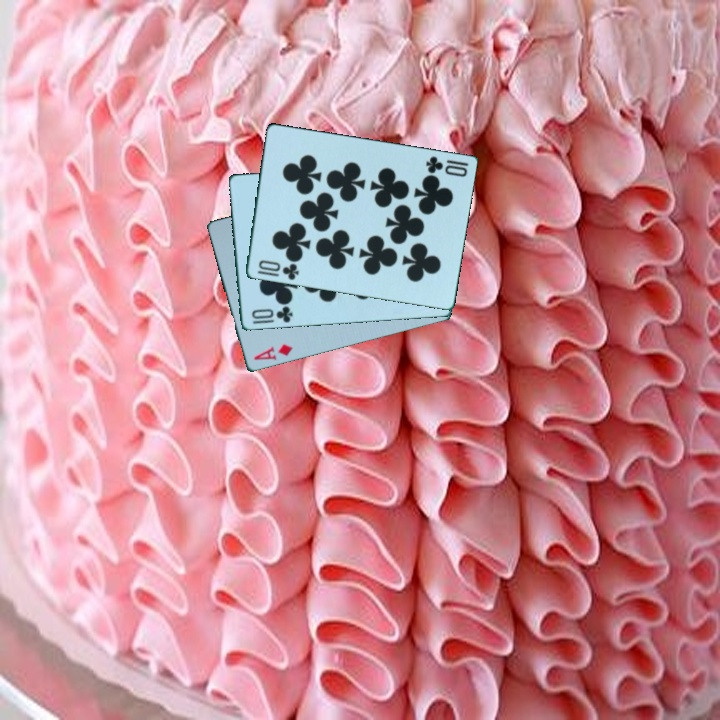10c: (255, 257, 302, 283), (248, 303, 296, 326), (422, 153, 471, 175)
Ad: (250, 340, 295, 363)
